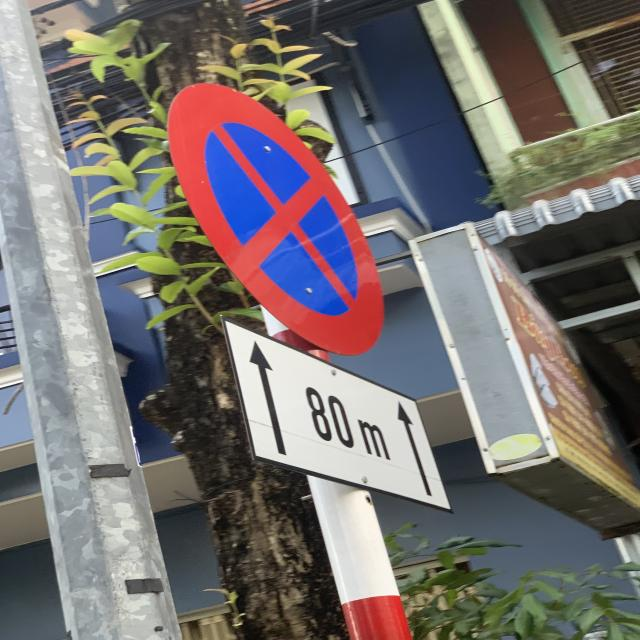Cam_Dung_Va_Dau_Xe: (169, 82, 387, 355)
